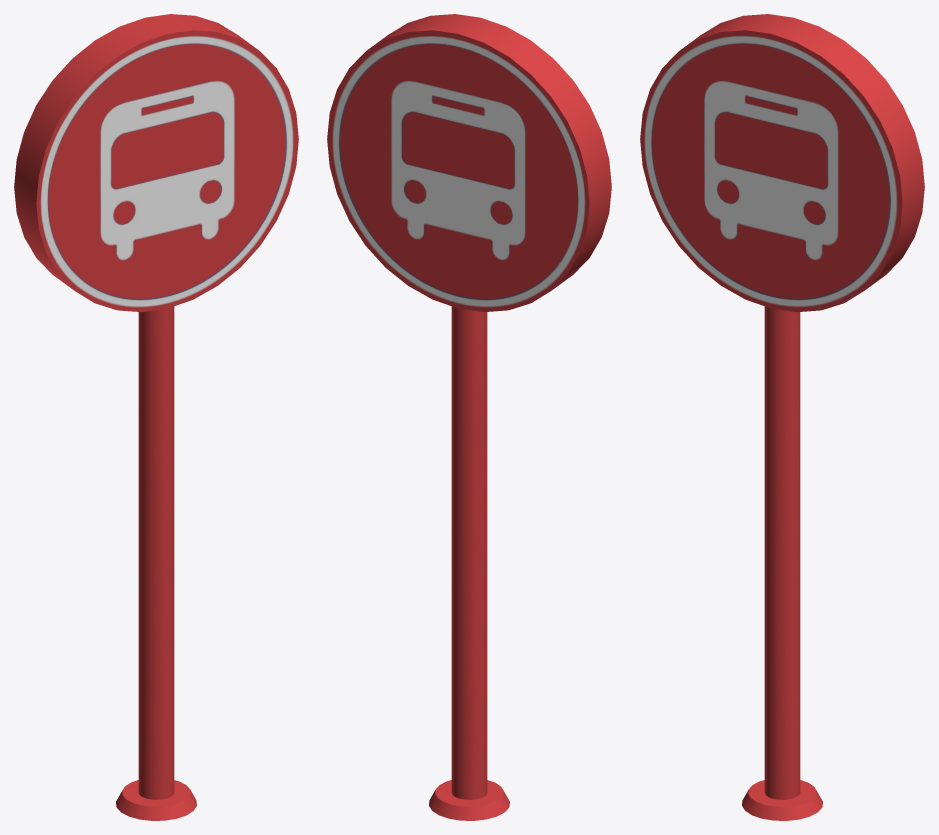
File: buszero.glb
3 views of the same model, side by side, from view 1: azimuth 30°, elevation 25°; view 2: azimuth 150°, elevation 25°; view 3: azimuth 330°, elevation 25° (orthographic).
Parts seen in each view (by area): view 1: Sign_0; view 2: Sign_0; view 3: Sign_0.
Boxes of the visible parts, <box> form: Sign_0: <box>14,14,298,820</box>; Sign_0: <box>327,14,611,820</box>; Sign_0: <box>640,14,924,820</box>.
Bounding box in the file's own units: 14.98 × 42.41 × 4.04.
Materials: 1 (1 with a texture image).
